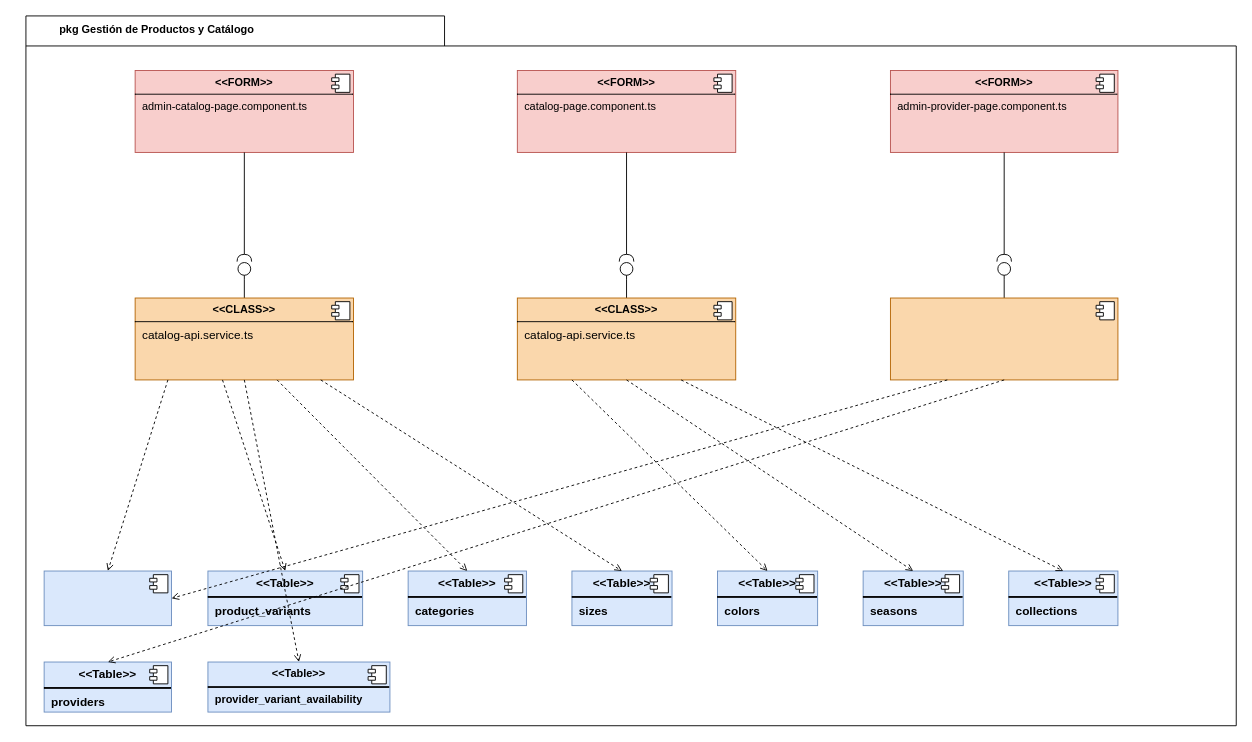
Some shapes in this 1252 by 742 pixel diagram are drawn without their labels. The shapes that lost their labels are listed below. From the top down, each one's centre as x and y in pixels, then its label:
At pixel 1004 338: "<<CLASS>> admin-provider.service.ts".
At pixel 107 598: "<<Table>> products".
